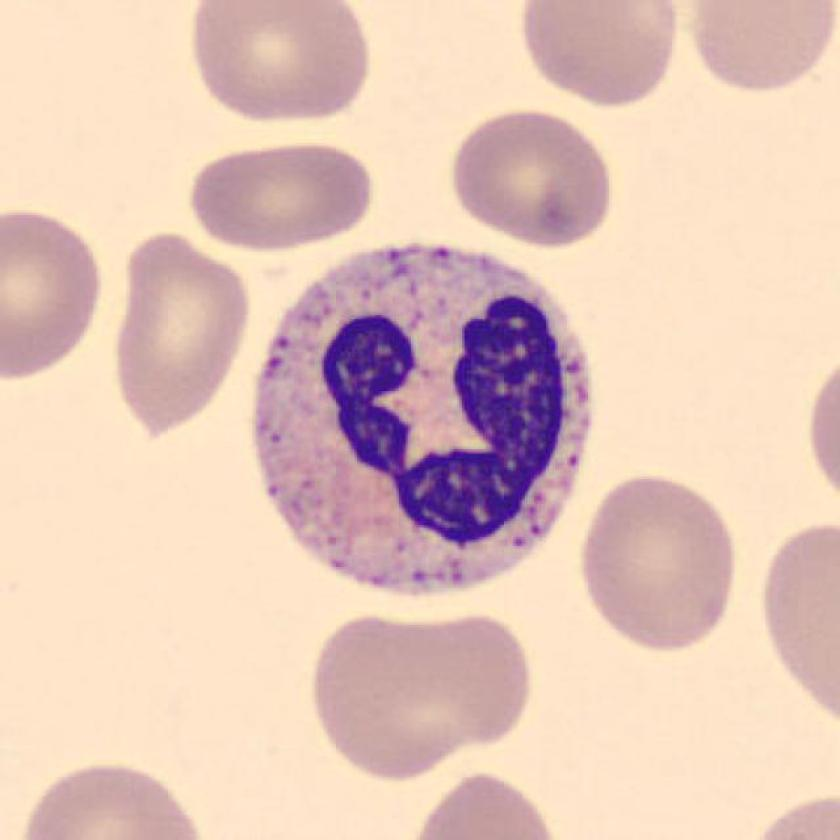neutrophil: (254, 245, 592, 596)
